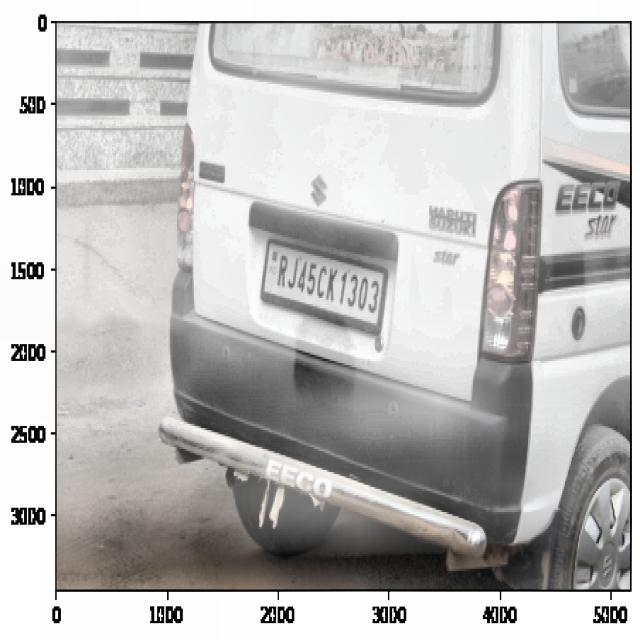license_plate: (272, 245, 385, 327)
